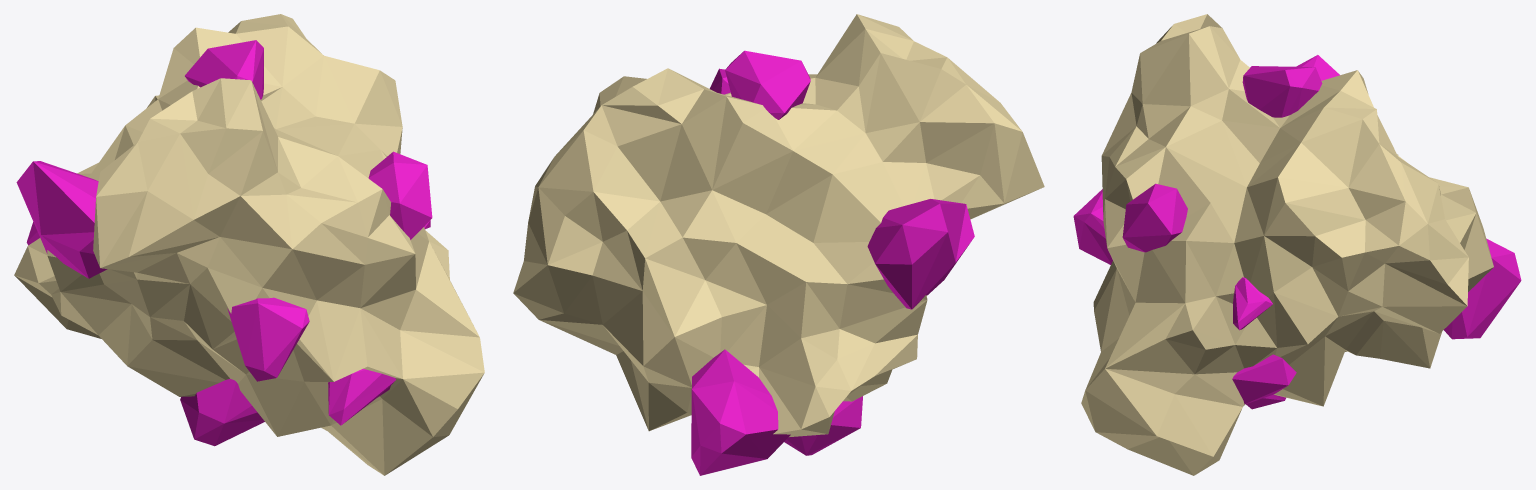
Rendered from CrystalOre (42).fbx.
3 renders of one model, left to right at view 1: azimuth 30°, elevation 25°; view 2: azimuth 150°, elevation 25°; view 3: azimuth 270°, elevation 25°, orthographic. The views are drawn at different scales.
Parts seen in each view (by area): view 1: Asteroid262; view 2: Asteroid262; view 3: Asteroid262.
Boxes of the visible parts, left/top/right/bottom form: Asteroid262: left=14, top=14, right=484, bottom=475; Asteroid262: left=513, top=14, right=1044, bottom=475; Asteroid262: left=1073, top=14, right=1521, bottom=475.
Size of the model in its own units: 318 by 336 by 355.
